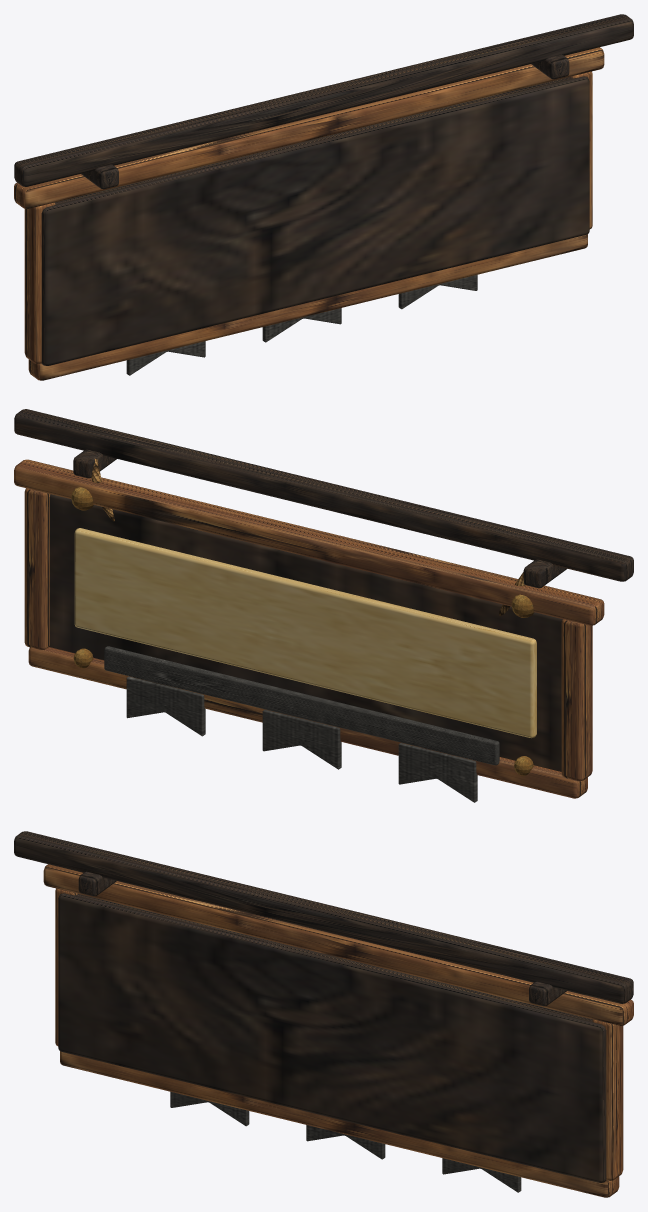
The model's file is town-hanging-sign.glb.
3 renders of one model, top to bottom at view 1: azimuth 30°, elevation 25°; view 2: azimuth 150°, elevation 25°; view 3: azimuth 330°, elevation 25°, orthographic.
Visible parts, largest first — view 1: town_hanging_sign_back_plate, town_hanging_sign_wall_bracket, town_hanging_sign_top_rail, town_hanging_sign_bottom_rail, town_hanging_sign_left_side_rail, town_hanging_sign_accent_pennant_0, town_hanging_sign_accent_pennant_1, town_hanging_sign_accent_pennant_2, town_hanging_sign_right_side_rail, town_hanging_sign_right_bracket_arm, town_hanging_sign_left_bracket_arm; view 2: town_hanging_sign_cream_inset, town_hanging_sign_back_plate, town_hanging_sign_wall_bracket, town_hanging_sign_top_rail, town_hanging_sign_accent_strip, town_hanging_sign_bottom_rail, town_hanging_sign_left_side_rail, town_hanging_sign_right_side_rail, town_hanging_sign_accent_pennant_0, town_hanging_sign_accent_pennant_2, town_hanging_sign_accent_pennant_1, town_hanging_sign_left_bracket_arm (+1 smaller); view 3: town_hanging_sign_back_plate, town_hanging_sign_wall_bracket, town_hanging_sign_top_rail, town_hanging_sign_bottom_rail, town_hanging_sign_right_side_rail, town_hanging_sign_accent_pennant_0, town_hanging_sign_accent_pennant_1, town_hanging_sign_accent_pennant_2, town_hanging_sign_left_side_rail, town_hanging_sign_left_bracket_arm, town_hanging_sign_right_bracket_arm.
Part boxes in pixels (x1,y1,x2,y2): town_hanging_sign_back_plate: (41, 76, 589, 365); town_hanging_sign_wall_bracket: (14, 14, 633, 186); town_hanging_sign_top_rail: (14, 47, 604, 208); town_hanging_sign_bottom_rail: (28, 234, 587, 380); town_hanging_sign_left_side_rail: (24, 202, 55, 363); town_hanging_sign_accent_pennant_0: (126, 341, 205, 375); town_hanging_sign_accent_pennant_1: (262, 308, 341, 342); town_hanging_sign_accent_pennant_2: (398, 274, 477, 309); town_hanging_sign_right_side_rail: (570, 71, 592, 229); town_hanging_sign_right_bracket_arm: (531, 54, 569, 79); town_hanging_sign_left_bracket_arm: (81, 164, 118, 189); town_hanging_sign_cream_inset: (74, 528, 536, 737); town_hanging_sign_back_plate: (49, 494, 562, 771); town_hanging_sign_wall_bracket: (14, 409, 633, 581); town_hanging_sign_top_rail: (14, 459, 604, 625); town_hanging_sign_accent_strip: (104, 646, 499, 765); town_hanging_sign_bottom_rail: (28, 647, 587, 798); town_hanging_sign_left_side_rail: (561, 619, 592, 781); town_hanging_sign_right_side_rail: (24, 488, 50, 649); town_hanging_sign_accent_pennant_0: (398, 743, 477, 802); town_hanging_sign_accent_pennant_2: (126, 676, 205, 736); town_hanging_sign_accent_pennant_1: (262, 709, 341, 769); town_hanging_sign_left_bracket_arm: (523, 559, 567, 588); town_hanging_sign_back_plate: (58, 893, 606, 1182); town_hanging_sign_wall_bracket: (14, 831, 633, 1003); town_hanging_sign_top_rail: (43, 864, 633, 1025); town_hanging_sign_bottom_rail: (60, 1051, 619, 1197); town_hanging_sign_right_side_rail: (592, 1019, 623, 1180); town_hanging_sign_accent_pennant_0: (170, 1091, 249, 1126); town_hanging_sign_accent_pennant_1: (306, 1125, 385, 1159); town_hanging_sign_accent_pennant_2: (442, 1158, 521, 1192); town_hanging_sign_left_side_rail: (55, 888, 77, 1046); town_hanging_sign_left_bracket_arm: (78, 871, 116, 896); town_hanging_sign_right_bracket_arm: (529, 981, 566, 1006).
Bounding box in the file's own units: 4.95 × 2 × 0.54.
Materials: 6 (6 with a texture image).
